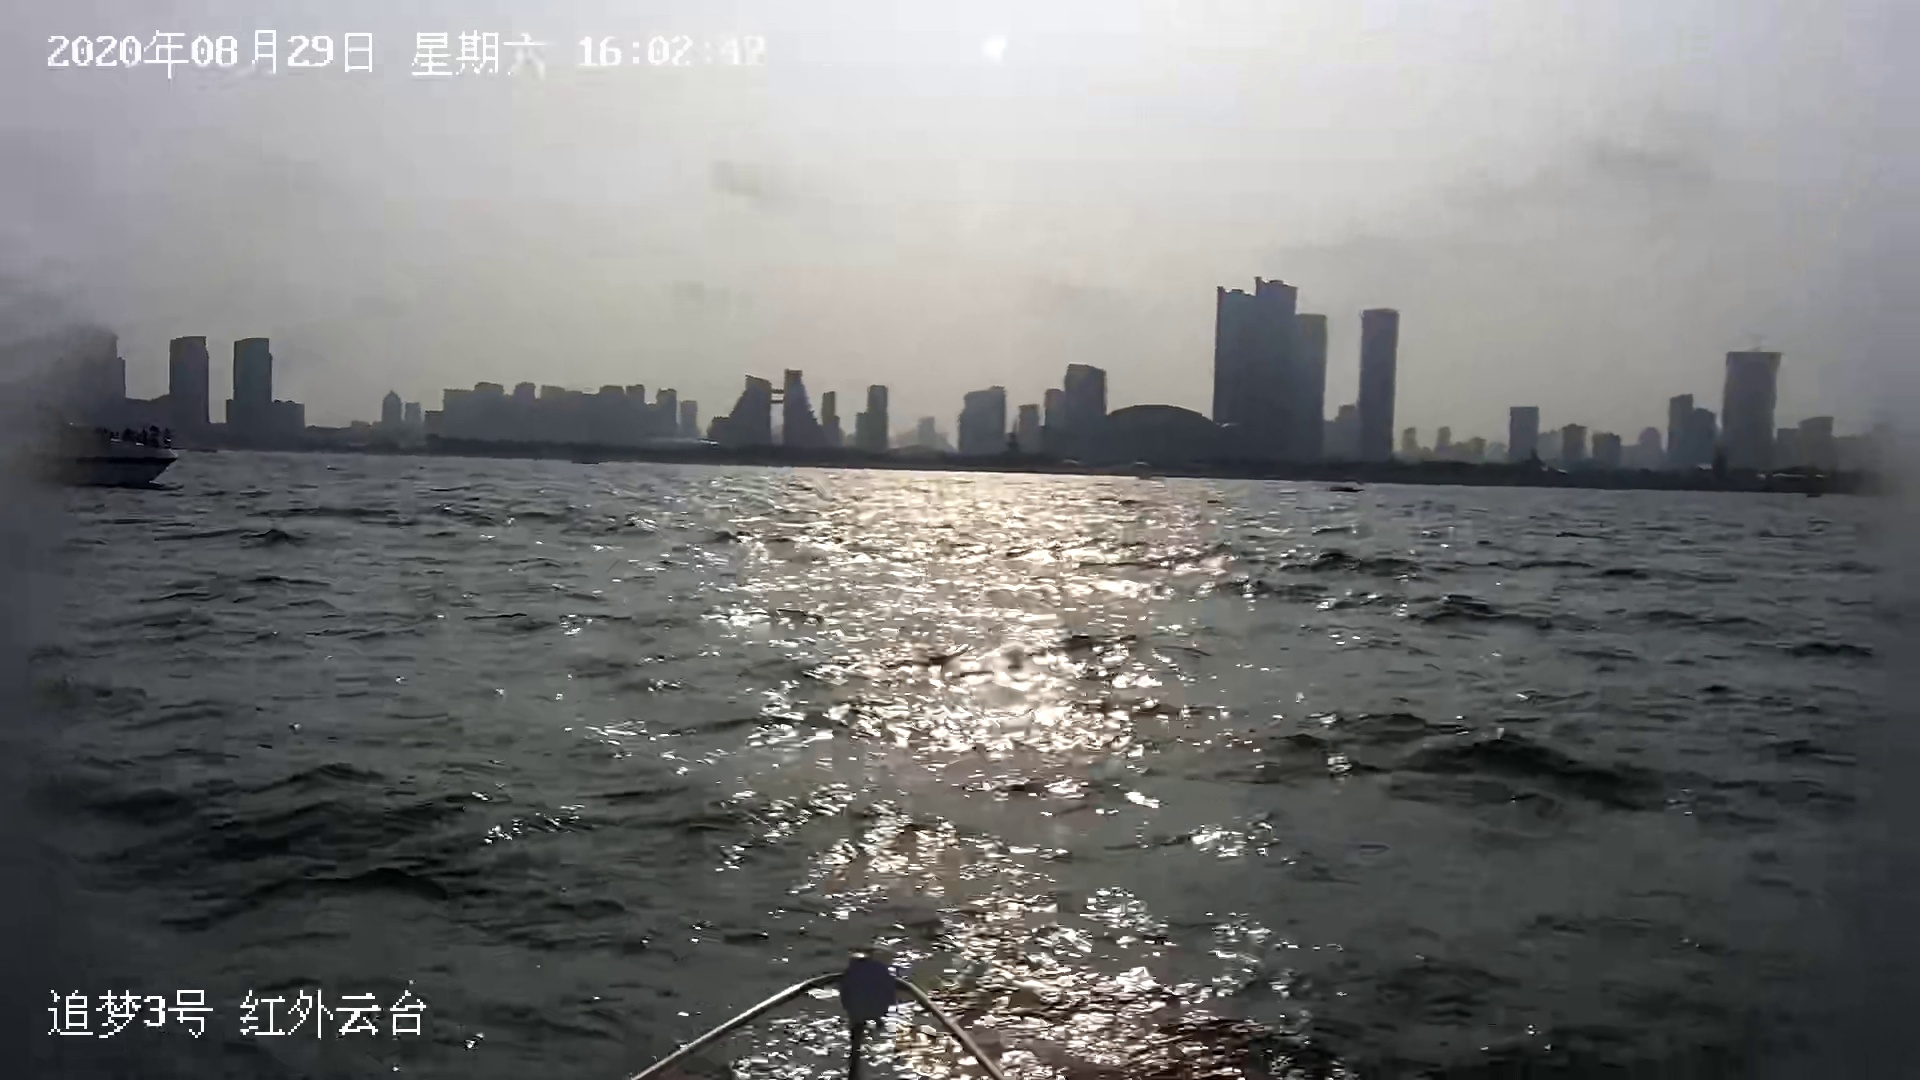barrier: (15, 400, 181, 489)
coast: (1, 266, 1875, 506)
